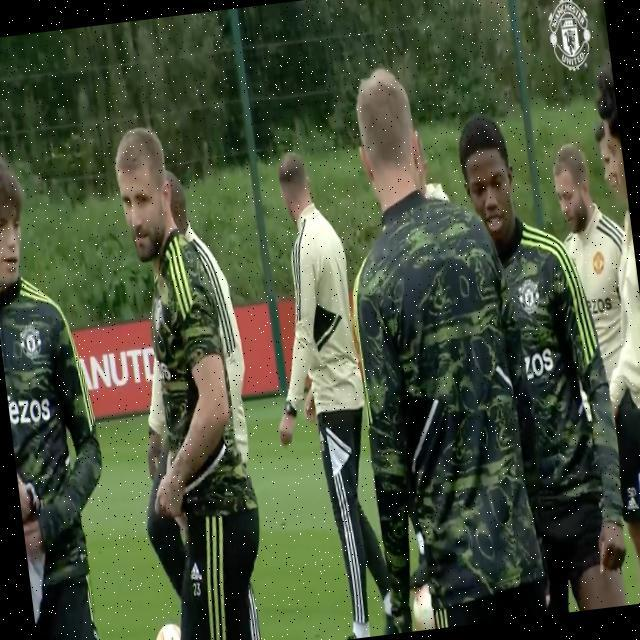Adidas: (189, 561, 203, 584), (626, 497, 640, 514)
